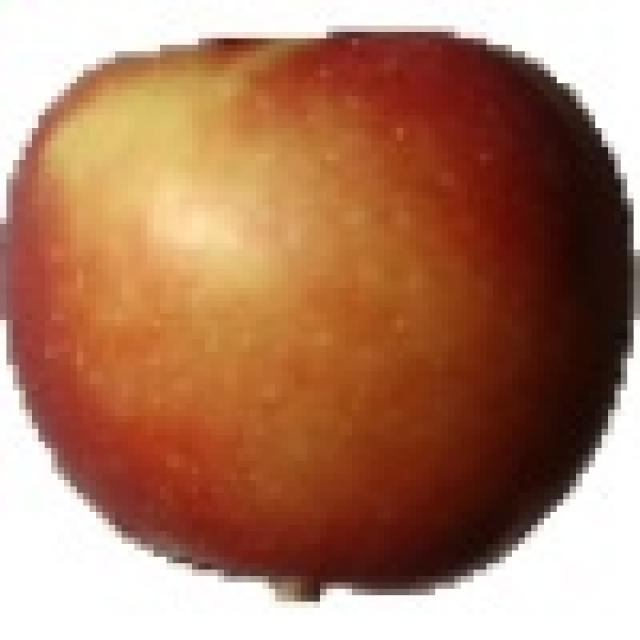apple: (1, 29, 640, 602)
